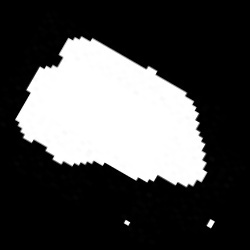pinhole: (207, 219, 214, 228), (125, 221, 130, 226)
spot: (16, 38, 211, 186)
